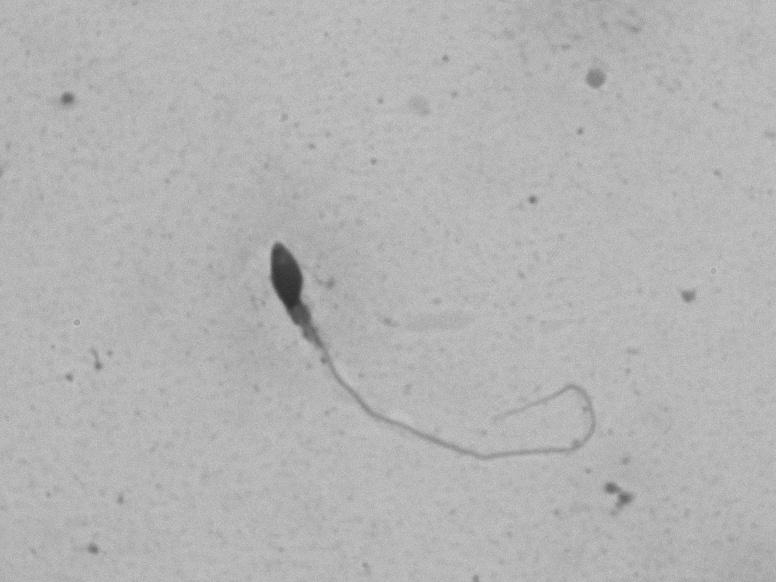Abnormal: (218, 184, 613, 491)
